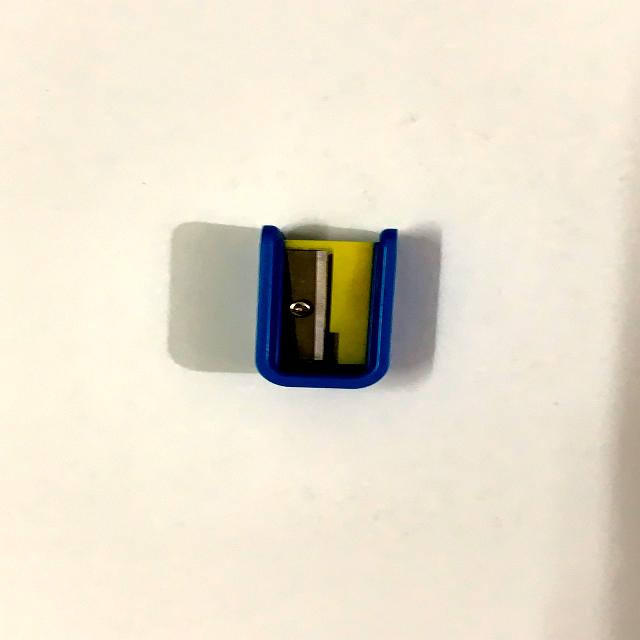Sharpner: (222, 210, 418, 406)
